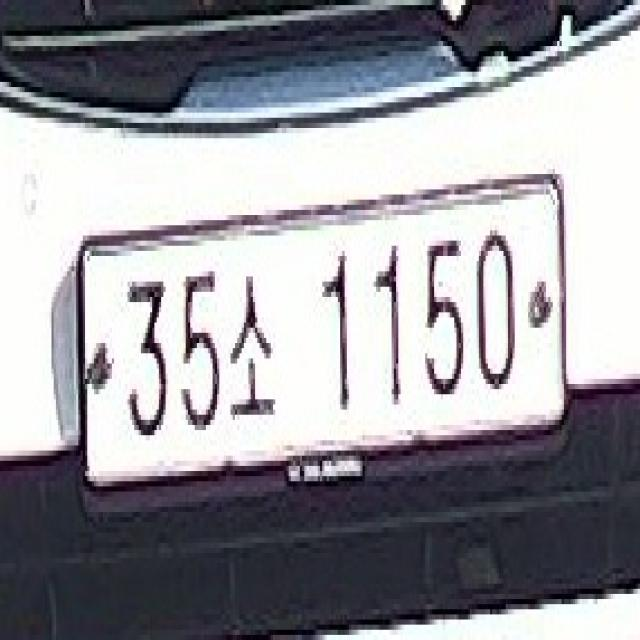0: (477, 220, 517, 394)
1: (374, 236, 401, 400), (324, 256, 352, 410)
3: (125, 272, 168, 440)
5: (423, 230, 468, 404), (183, 266, 220, 435)
license_plate: (76, 174, 566, 481)
so: (226, 266, 277, 430)
